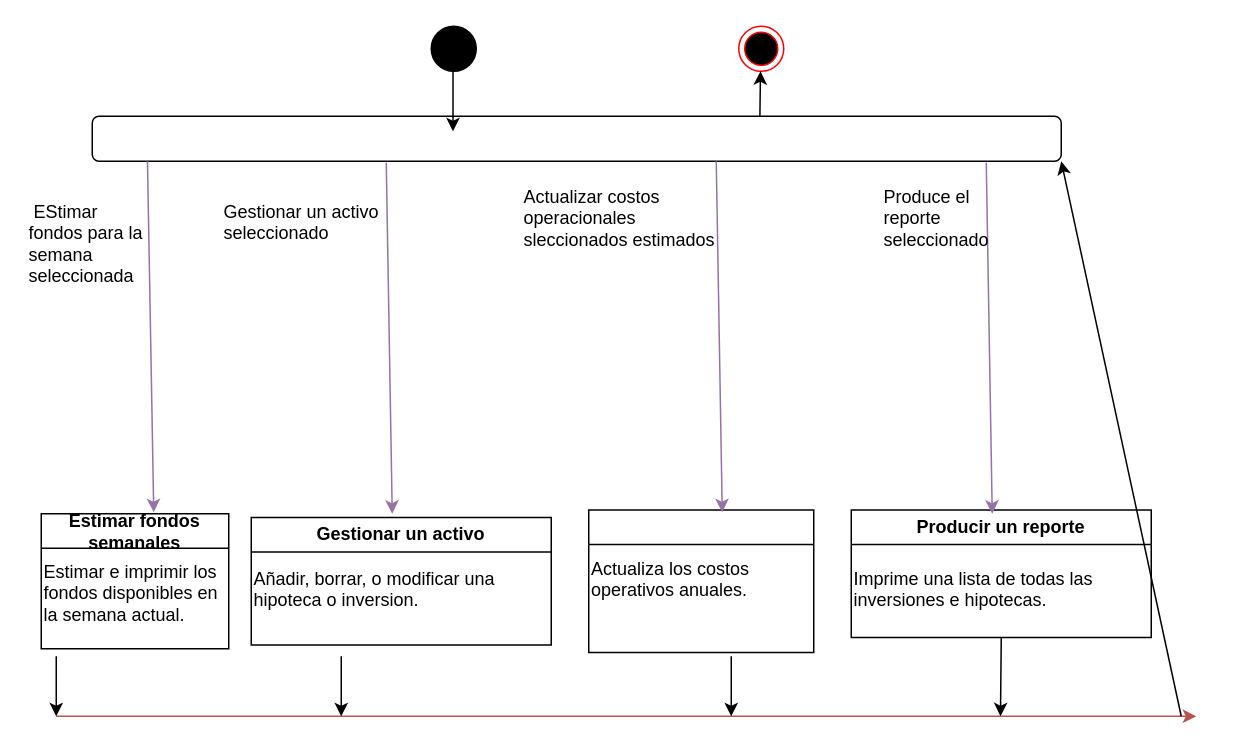
Image size: 1235x755. Some labels were removed from this diagram. The shapes that lost their labels are listed below. From the top down, each one's box as (x1, y1, x2, y2) in pixels, then its label:
(91, 115, 1061, 161): EVENTO DEL SISTEWMA DE LA FUNDACION MSG
(587, 508, 814, 652): Actualizar costos operativos anuales
